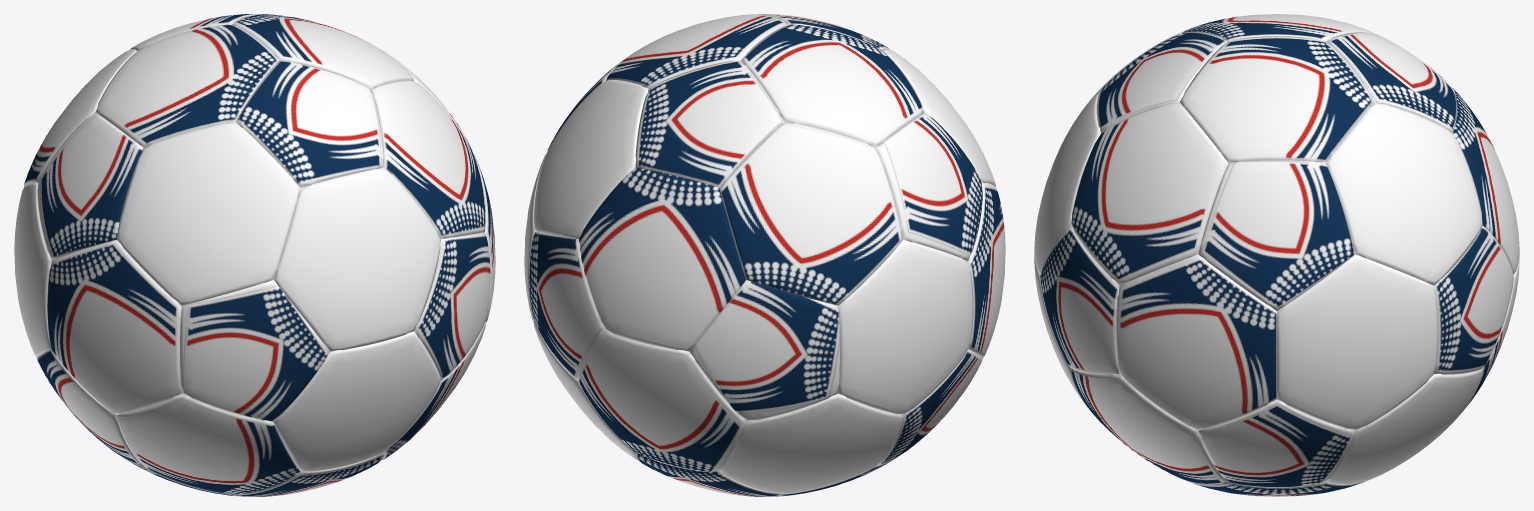
Rendered from Ball_BluePattern(White).fbx.
3 renders of one model, left to right at view 1: azimuth 30°, elevation 25°; view 2: azimuth 150°, elevation 25°; view 3: azimuth 270°, elevation 25°, orthographic.
Parts seen in each view (by area): view 1: Hedra002; view 2: Hedra002; view 3: Hedra002.
Boxes of the visible parts, x1,y1,x2,y2 form: Hedra002: [14, 14, 495, 496]; Hedra002: [524, 14, 1005, 496]; Hedra002: [1034, 14, 1519, 496].
Bounding box in the file's own units: 0.0136 × 0.0136 × 0.0136.
Materials: 1 (1 with a texture image).
